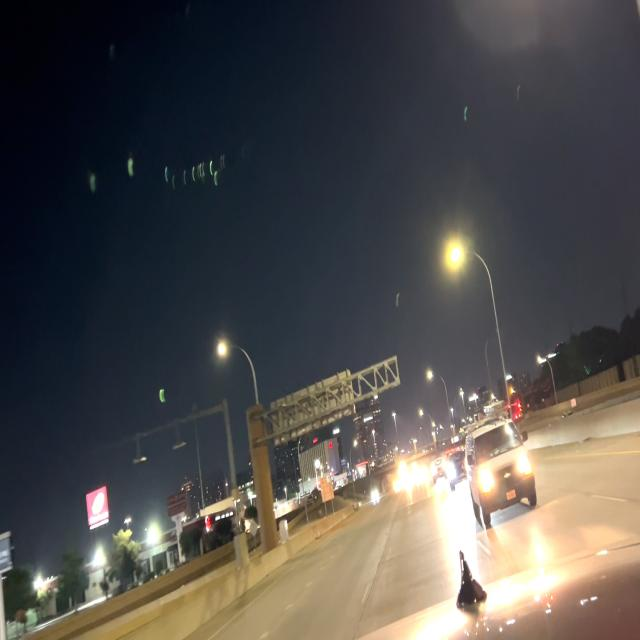back-of-sign: (271, 368, 354, 444), (319, 472, 334, 506)
